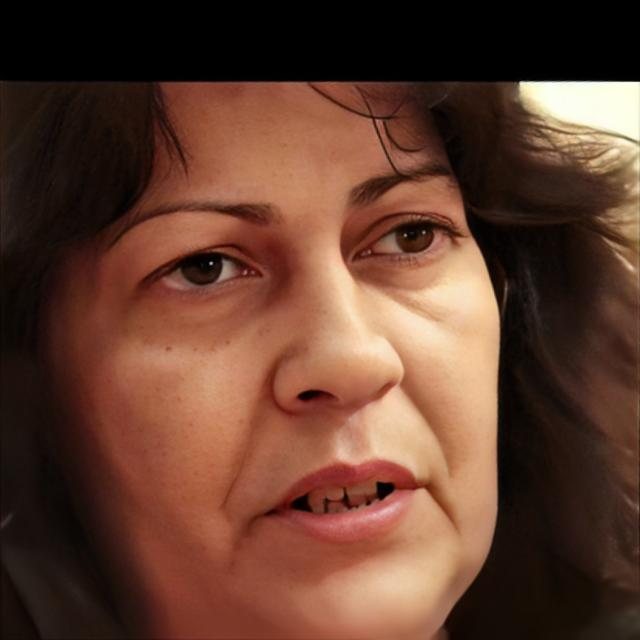disgust: (44, 81, 504, 640)
